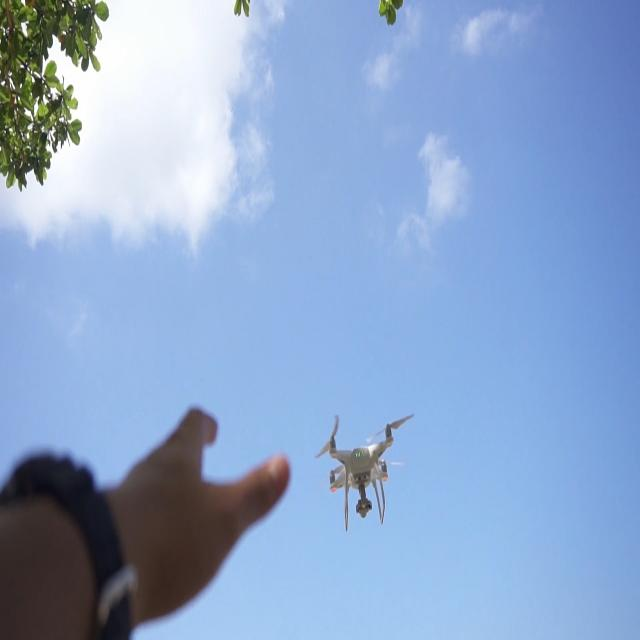Drone: (302, 381, 441, 532)
